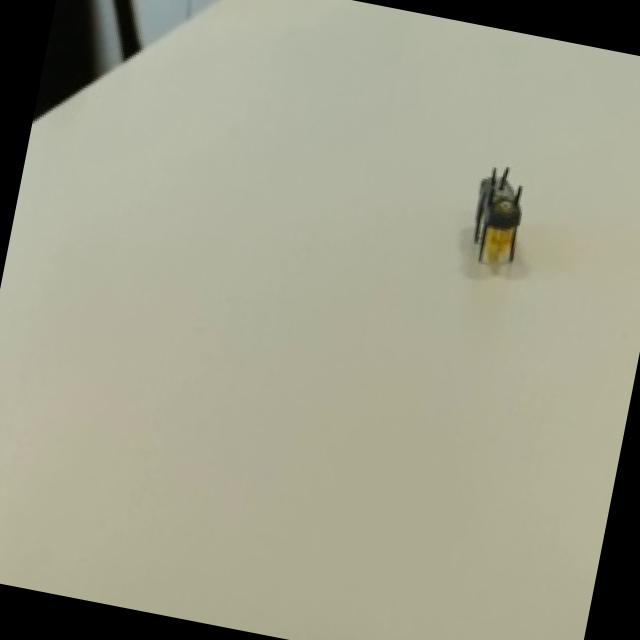6_NanoBug_GrisOscuro: (434, 132, 556, 294)
